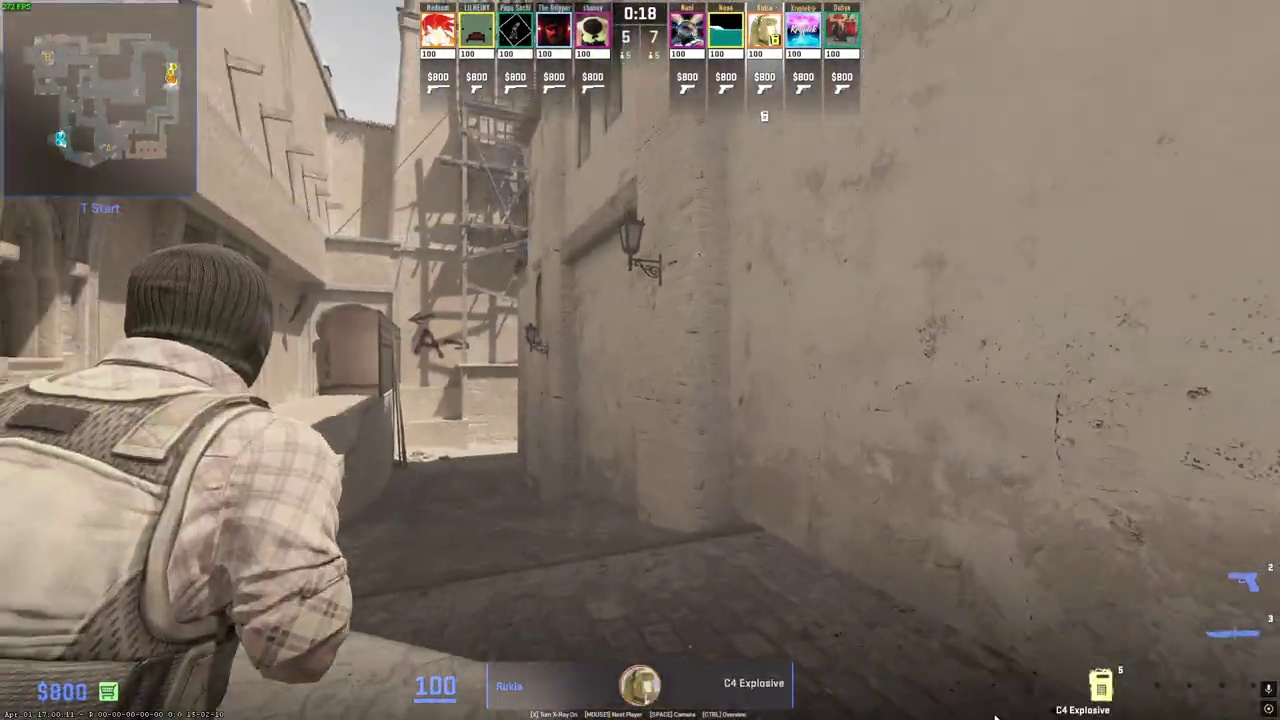Terrorist: (0, 243, 353, 720)
